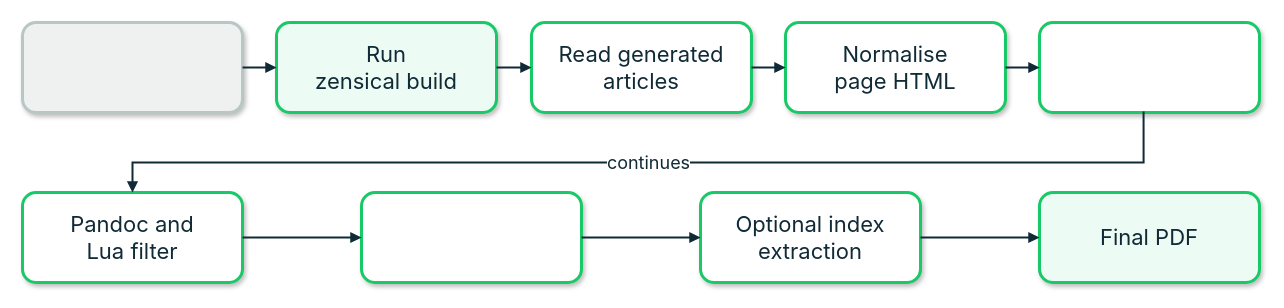
The diagram is 1284 pixels wide and 308 high, and some of its shapes have lost their labels. Each missing label, with the centre of its shape:
"Assemble document" belongs at pixel 1150 68.
"WeasyPrint layout" belongs at pixel 472 238.
"zensical.toml and nav" belongs at pixel 133 68.
